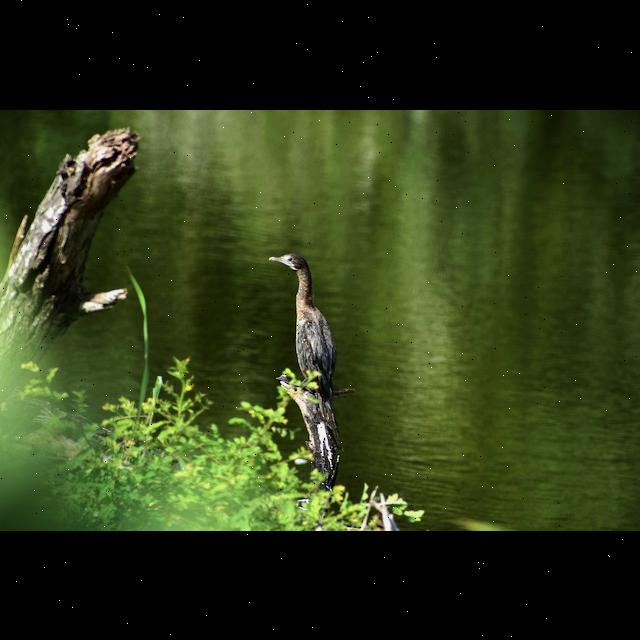cormorant: (259, 250, 341, 398)
